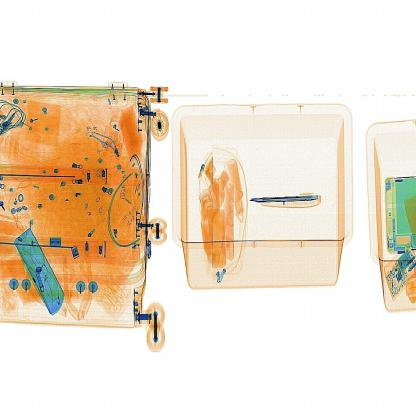pliers: (252, 193, 329, 208)
